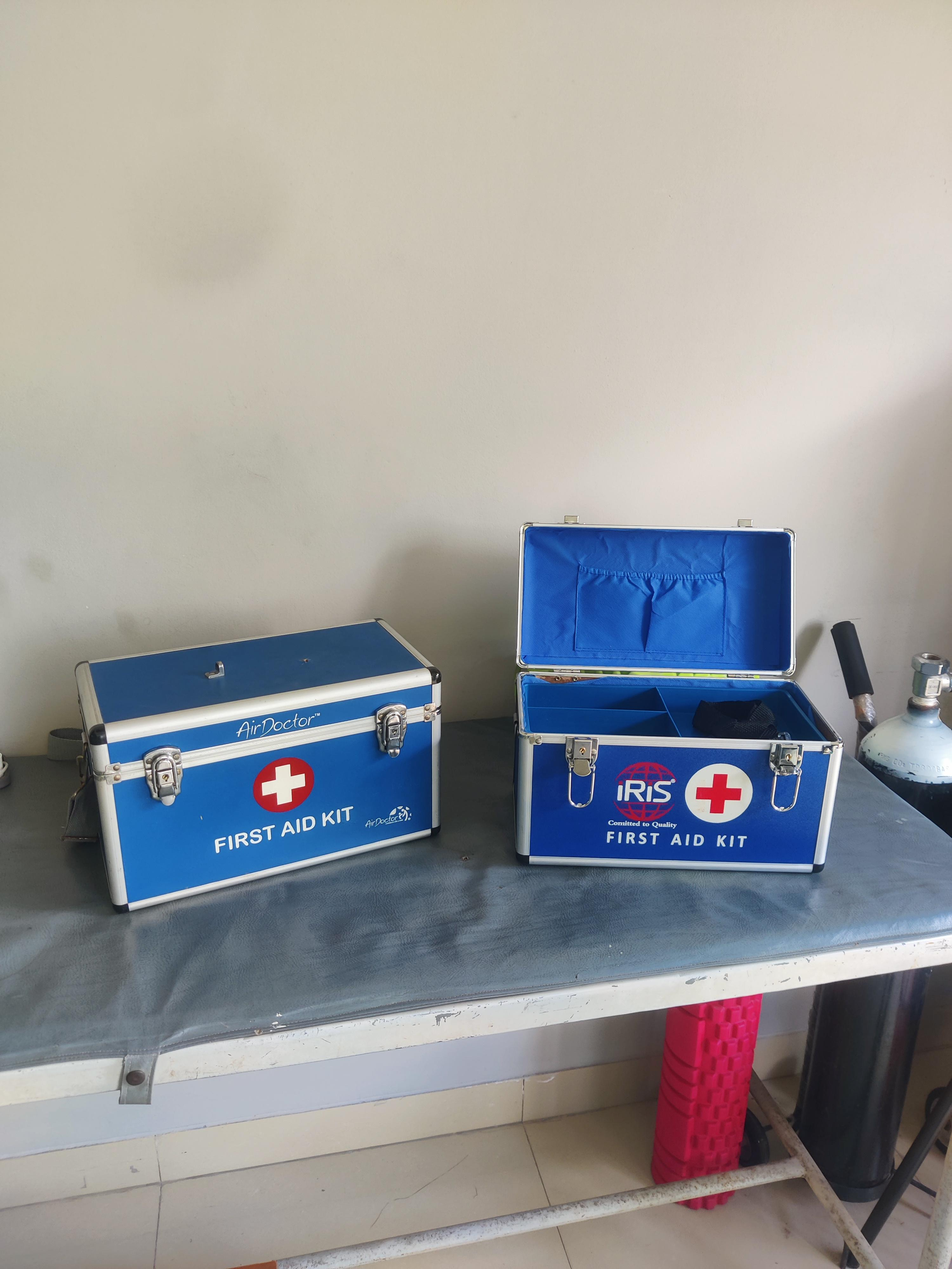FirstAidBox: (497, 499, 856, 883), (44, 609, 459, 930)
